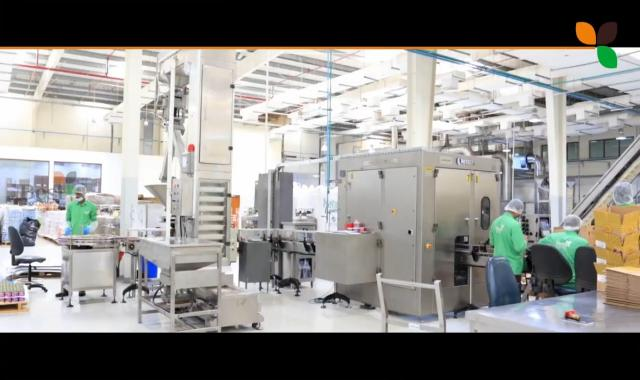hairnet: (612, 181, 634, 206), (565, 214, 582, 231), (508, 196, 524, 214), (74, 184, 86, 199)
